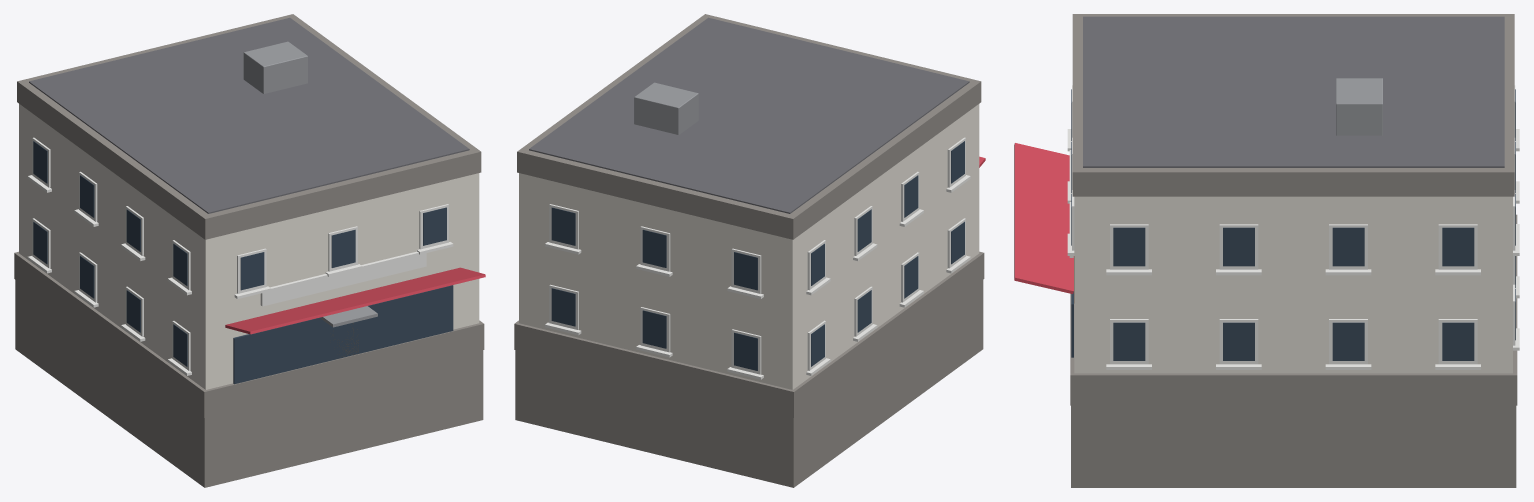
File: house_e.glb
3 views of the same model, side by side, from view 1: azimuth 30°, elevation 25°; view 2: azimuth 150°, elevation 25°; view 3: azimuth 270°, elevation 25° (orthographic). The views are drawn at different scales.
Parts seen in each view (by area): view 1: house_e; view 2: house_e; view 3: house_e.
Boxes of the visible parts, bbox=[...] form: house_e: bbox=[14, 14, 485, 487]; house_e: bbox=[514, 14, 985, 487]; house_e: bbox=[1014, 14, 1519, 487].
Size of the model in its own units: 11.4 by 11.4 by 14.98.
